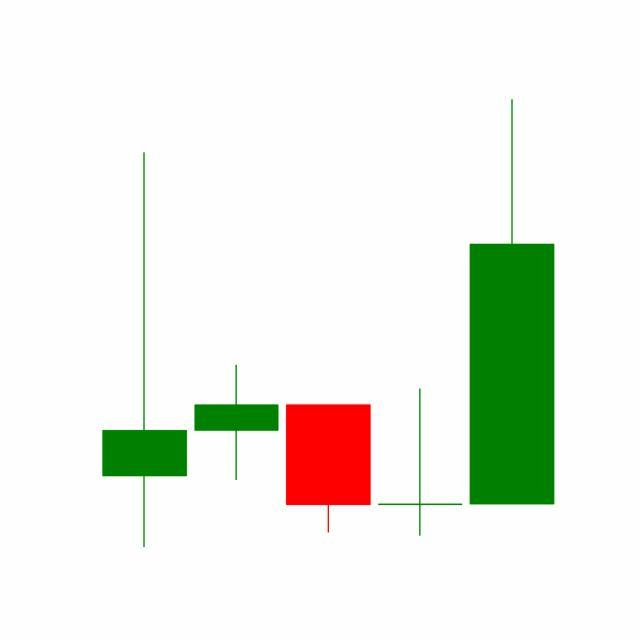Spinning Top: (374, 388, 468, 539)
